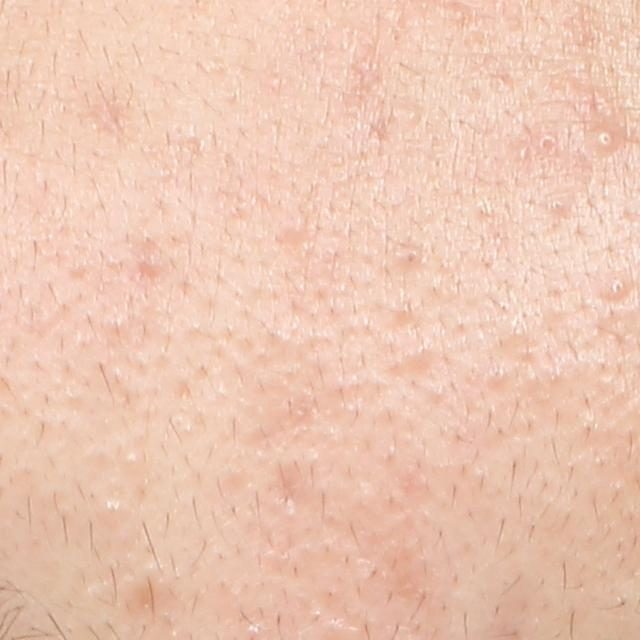comedo: (116, 447, 147, 477), (603, 270, 632, 299), (100, 494, 129, 518), (534, 130, 560, 156), (398, 246, 422, 267), (452, 5, 474, 26), (404, 105, 423, 123)
